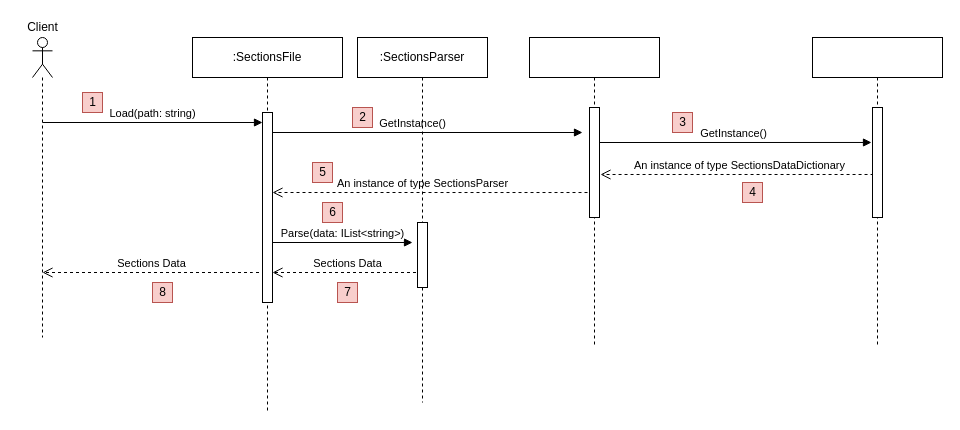
Image size: 960x430. Some labels were removed from this diagram. Here are the shapes that lost their labels. From the top down, the centre of each, then its label:
At [594,192]: ":SectionsParserFactory".
At [877,192]: ":SectionsDataFactory".
